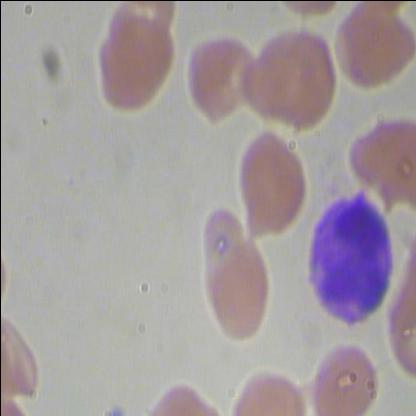Platelets: (100, 403, 130, 415)
RBC: (243, 22, 340, 134), (198, 236, 283, 342), (228, 130, 312, 236), (326, 1, 415, 96), (180, 27, 260, 129), (96, 11, 176, 111), (304, 337, 380, 415)
WBC: (302, 183, 402, 326)
